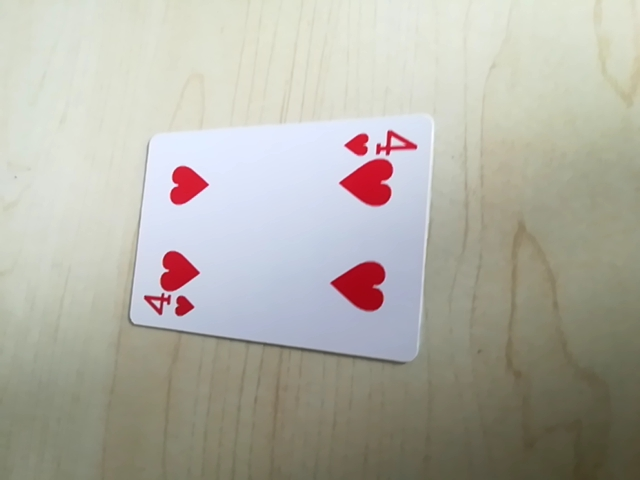hx 4: (339, 121, 420, 160), (136, 290, 198, 325)
